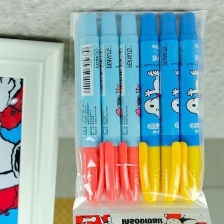correction_fluid: (76, 12, 106, 204), (176, 10, 202, 203), (136, 11, 161, 203), (157, 10, 181, 204), (116, 11, 139, 204), (99, 11, 122, 203)
